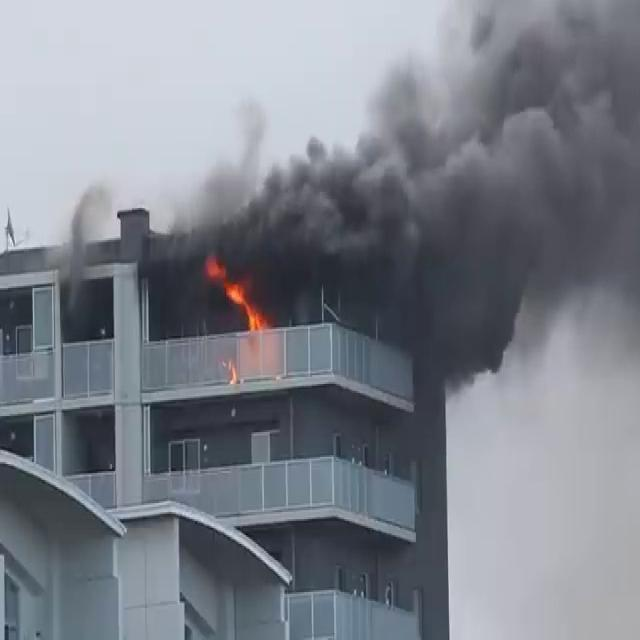Fire: (213, 268, 268, 334)
Smoke: (166, 0, 640, 379)
